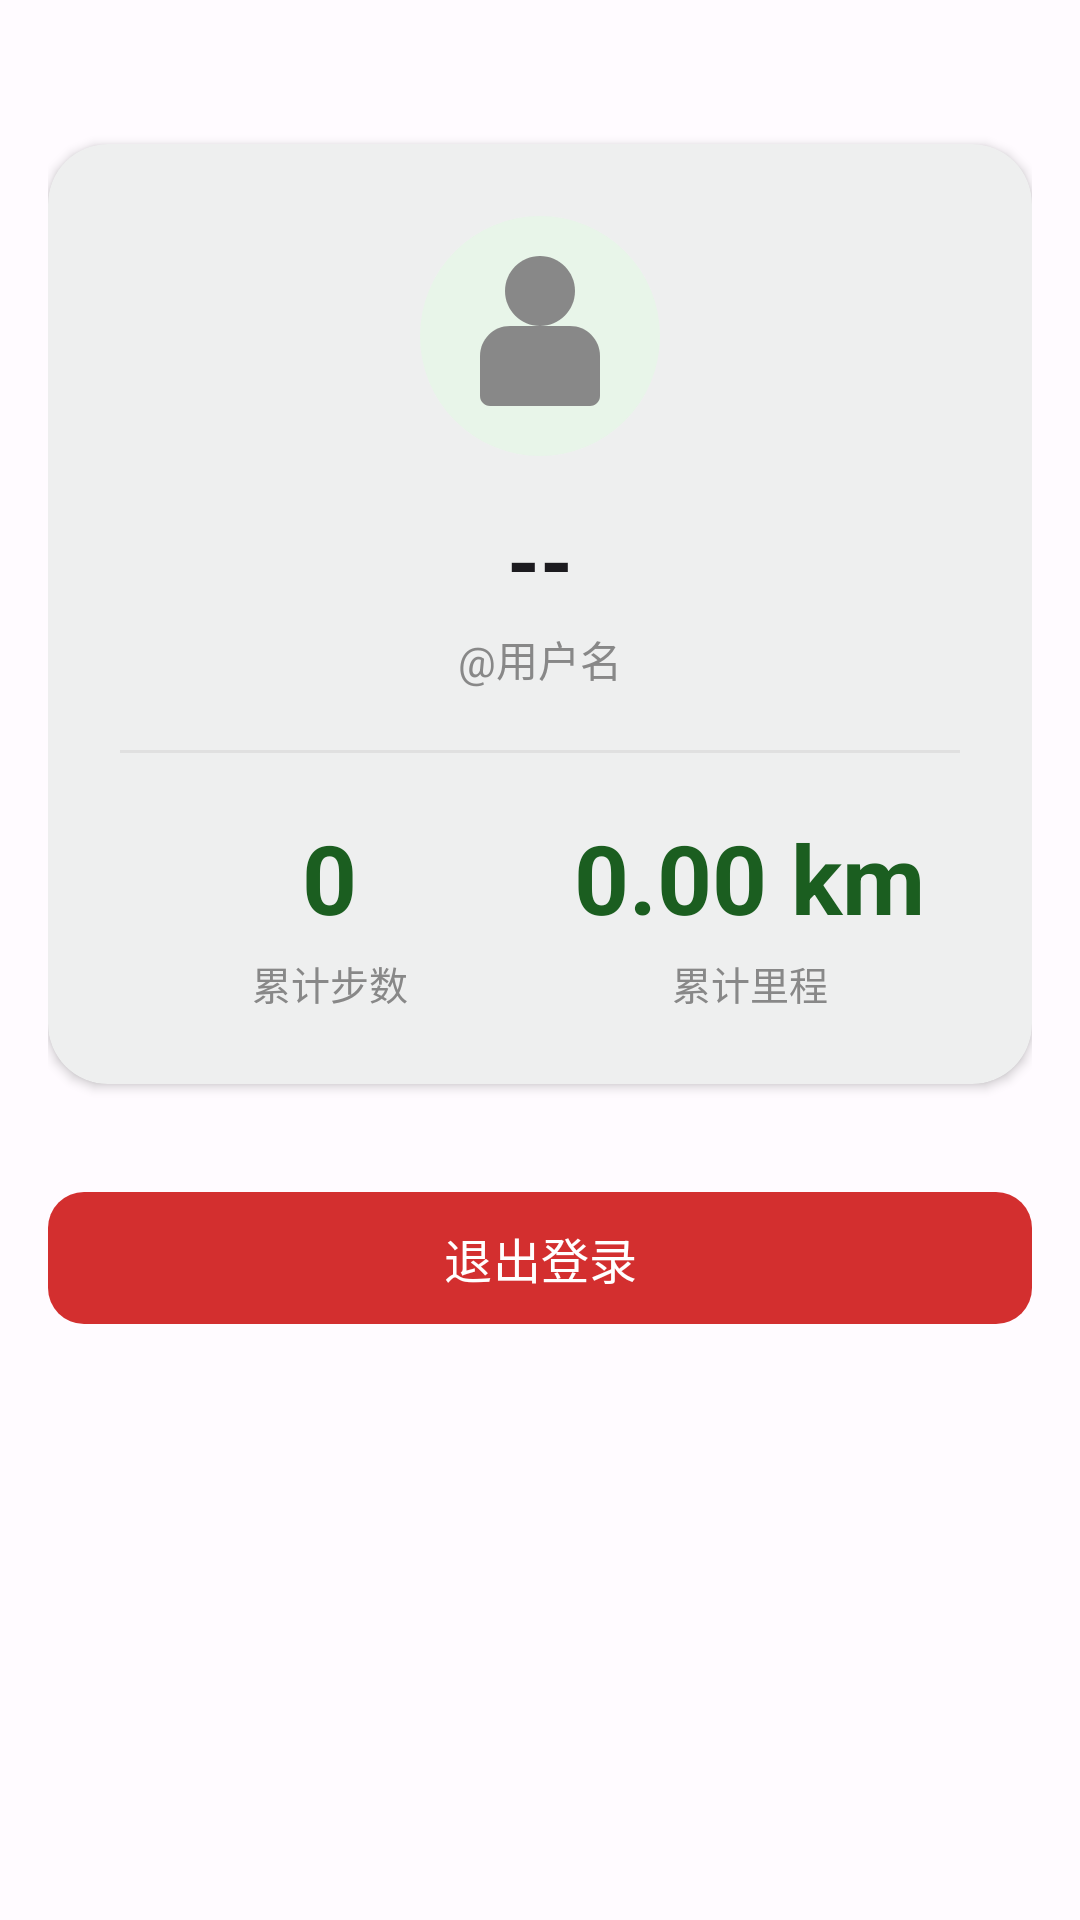

Named icons in this screenshot (1080 x 1920) and their bounding boxes, (x1, y1, x2, y2):
头像: (480, 256, 600, 406)
